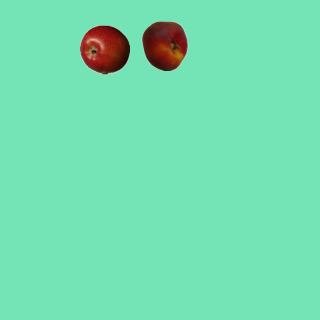Apple Braeburn: (79, 24, 129, 74)
Nectarine Flat: (139, 20, 189, 70)
